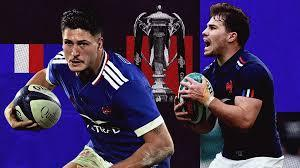ballon_rugby: (13, 84, 63, 131), (177, 72, 214, 127)
